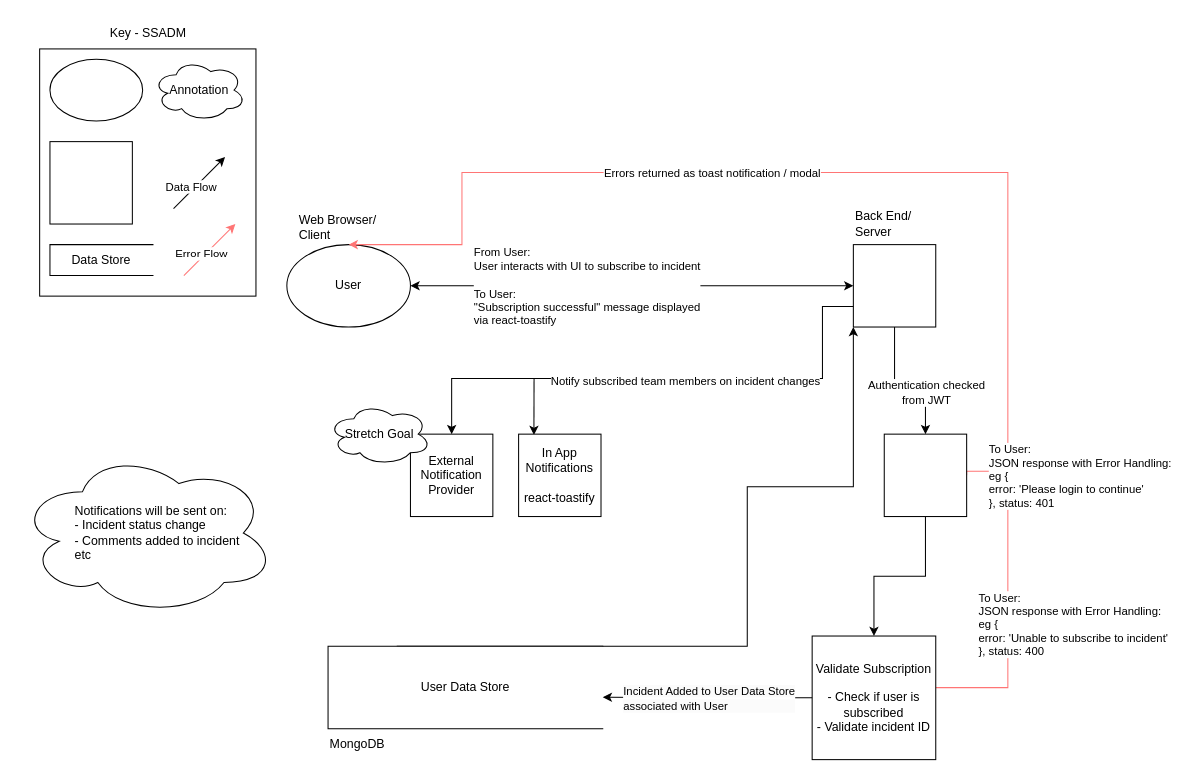
Image size: 1190x778. Some labels were removed from this diagram. The centre of each missing label's shape, as x and y in pixels:
"Entity" belongs at (96,89).
"Process" belongs at (90,182).
"Subscribe for notification on Incident" belongs at (894,285).
"Validate user authenticated" belongs at (925,475).
